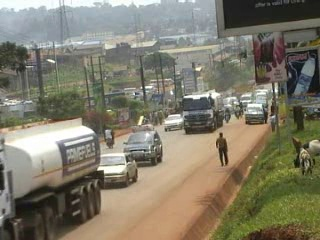Car: (117, 128, 167, 167), (100, 150, 141, 187), (159, 108, 186, 132)
Motorcycle: (101, 121, 117, 149), (221, 104, 231, 124), (230, 103, 240, 123), (236, 101, 244, 119)
